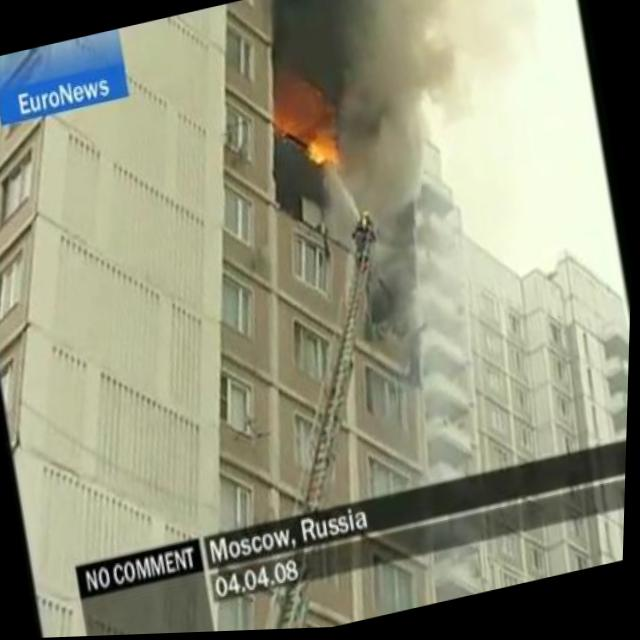fire: (299, 117, 352, 182)
